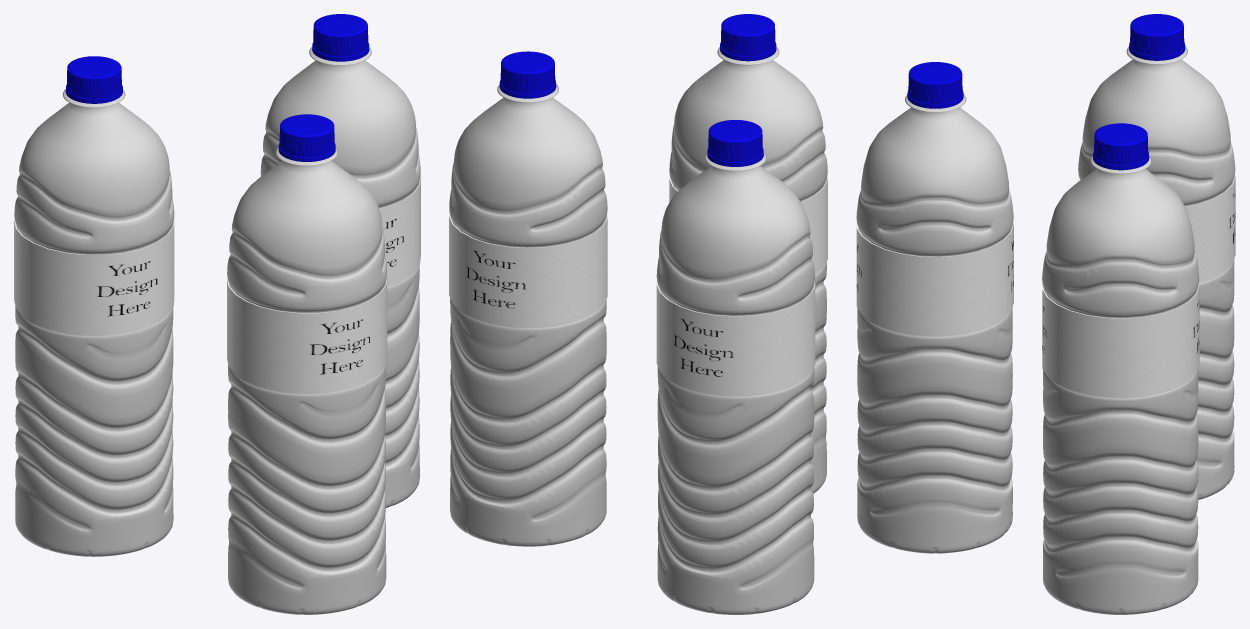
The model's file is Plastic Bottle A-6.glb.
3 views of the same model, side by side, from view 1: azimuth 30°, elevation 25°; view 2: azimuth 150°, elevation 25°; view 3: azimuth 270°, elevation 25° (orthographic).
Parts seen in each view (by area): view 1: Circle, Circle.002, Circle.004, Poster_Poster_0.001, Poster_Poster_0, Poster_Poster_0.002, Circle.001, Circle.003, Circle.012; view 2: Circle.004, Circle, Circle.002, Poster_Poster_0, Poster_Poster_0.002, Circle.003, Circle.012, Circle.001, Poster_Poster_0.001; view 3: Circle.002, Circle.004, Circle, Poster_Poster_0.001, Poster_Poster_0.002, Poster_Poster_0, Circle.001, Circle.003, Circle.012.
Part boxes in pixels (bbox=[...]): Circle: bbox=[14, 89, 174, 556]; Circle.002: bbox=[227, 147, 386, 614]; Circle.004: bbox=[260, 47, 420, 507]; Poster_Poster_0.001: bbox=[227, 276, 387, 393]; Poster_Poster_0: bbox=[14, 218, 174, 334]; Poster_Poster_0.002: bbox=[379, 176, 420, 286]; Circle.001: bbox=[278, 114, 335, 161]; Circle.003: bbox=[312, 14, 369, 61]; Circle.012: bbox=[65, 56, 122, 103]; Circle.004: bbox=[449, 84, 607, 546]; Circle: bbox=[656, 152, 815, 614]; Circle.002: bbox=[669, 47, 827, 493]; Poster_Poster_0: bbox=[656, 281, 815, 395]; Poster_Poster_0.002: bbox=[449, 213, 607, 327]; Circle.003: bbox=[499, 51, 556, 98]; Circle.012: bbox=[707, 120, 763, 166]; Circle.001: bbox=[720, 14, 776, 61]; Poster_Poster_0.001: bbox=[669, 175, 827, 274]; Circle.002: bbox=[856, 94, 1013, 553]; Circle.004: bbox=[1042, 156, 1199, 614]; Circle: bbox=[1078, 46, 1235, 499]; Poster_Poster_0.001: bbox=[856, 221, 1013, 335]; Poster_Poster_0.002: bbox=[1042, 283, 1199, 397]; Poster_Poster_0: bbox=[1078, 173, 1235, 282]; Circle.001: bbox=[907, 62, 963, 108]; Circle.003: bbox=[1093, 123, 1149, 170]; Circle.012: bbox=[1129, 14, 1185, 60].
Bounding box in the file's own units: 2.65 × 3.18 × 2.42.
4 materials, 1 textured.
